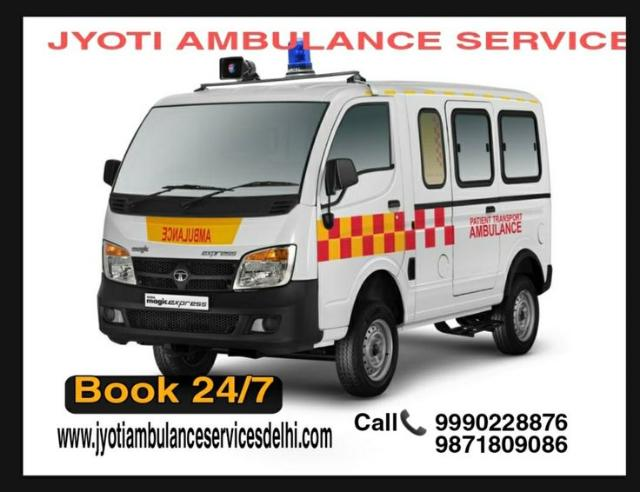ambulance: (92, 48, 578, 400)
